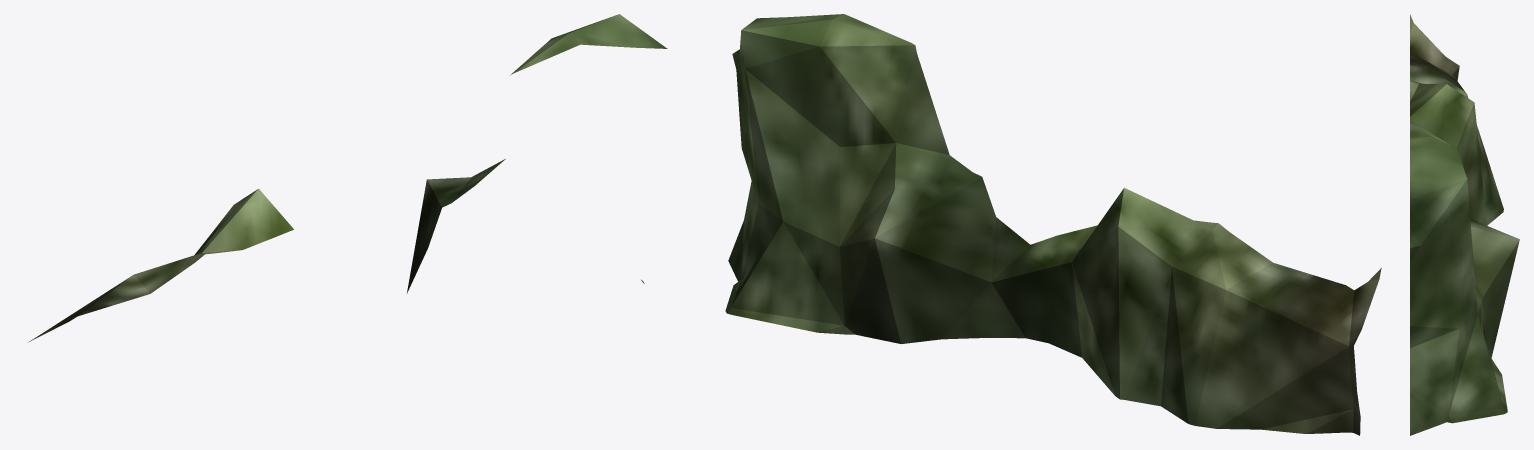
3 renders of one model, left to right at view 1: azimuth 30°, elevation 25°; view 2: azimuth 150°, elevation 25°; view 3: azimuth 270°, elevation 25°, orthographic. The views are drawn at different scales.
Size of the model in its own units: 0.996 by 0.4049 by 0.162.
1 material, 1 textured.
